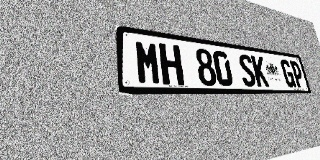0: (212, 50, 234, 86)
8: (194, 48, 217, 86)
G: (280, 59, 296, 87)
H: (158, 43, 184, 85)
K: (251, 55, 269, 87)
M: (134, 40, 162, 85)
P: (289, 60, 305, 88)
S: (237, 53, 257, 87)
